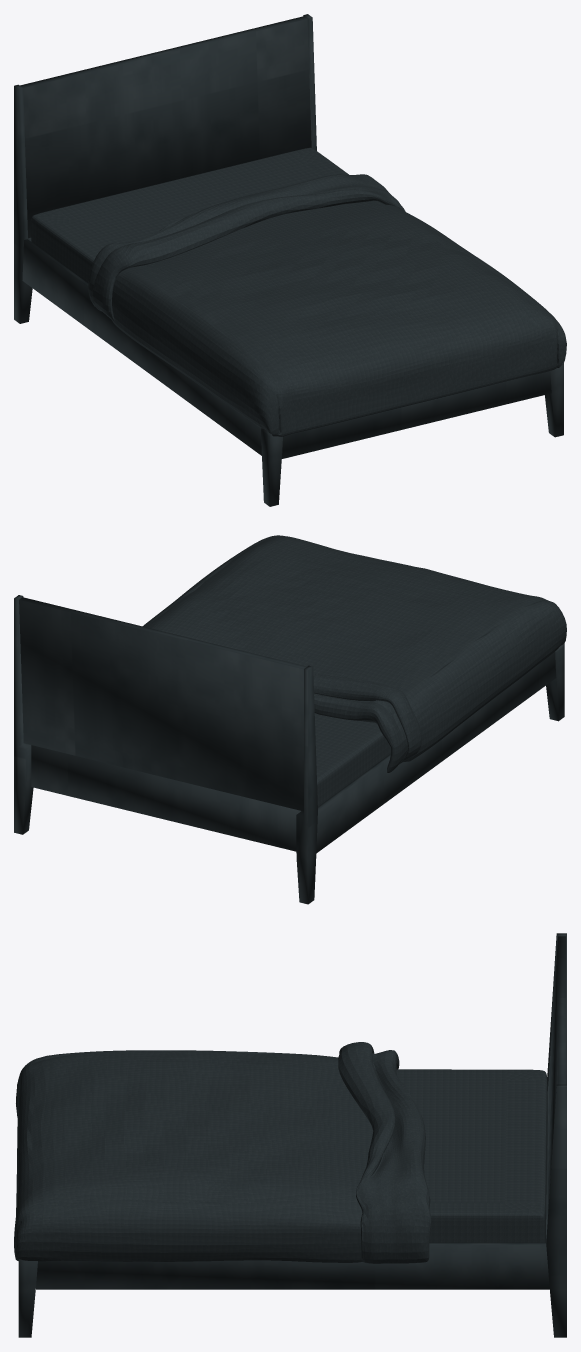
File: ik_nordli_full.glb
3 renders of one model, top to bottom at view 1: azimuth 30°, elevation 25°; view 2: azimuth 150°, elevation 25°; view 3: azimuth 270°, elevation 25°, orthographic. The views are drawn at different scales.
Parts seen in each view (by area): view 1: Mesh_0.028; view 2: Mesh_0.028; view 3: Mesh_0.028.
Part boxes in pixels (left/top/right/bottom): Mesh_0.028: left=14, top=14, right=566, bottom=506; Mesh_0.028: left=14, top=535, right=566, bottom=904; Mesh_0.028: left=14, top=933, right=566, bottom=1337.
Bounding box in the file's own units: 140 × 100 × 200.
1 material, 1 textured.
